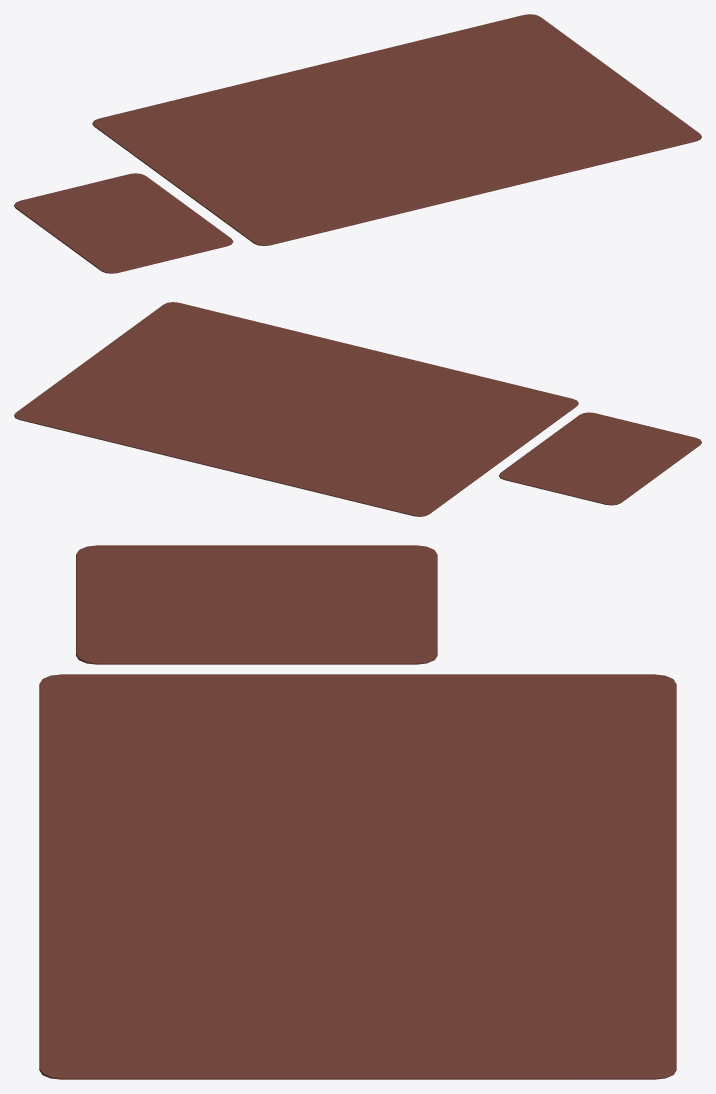
File: P_Rug&Mat.fbx
The picture shows the model from 3 angles, top to bottom: view 1: azimuth 30°, elevation 25°; view 2: azimuth 150°, elevation 25°; view 3: azimuth 270°, elevation 25°; orthographic projection. The views are drawn at different scales.
Visible parts, largest first — view 1: Catpet_04, Catpet_09; view 2: Catpet_04, Catpet_09; view 3: Catpet_04, Catpet_09.
Part boxes in pixels (bbox=[...]): Catpet_04: bbox=[92, 14, 701, 245]; Catpet_09: bbox=[14, 173, 233, 273]; Catpet_04: bbox=[14, 302, 578, 516]; Catpet_09: bbox=[499, 412, 701, 505]; Catpet_04: bbox=[39, 674, 676, 1079]; Catpet_09: bbox=[76, 545, 437, 664].
Size of the model in its own units: 7.82 by 0.0143 by 3.95.
